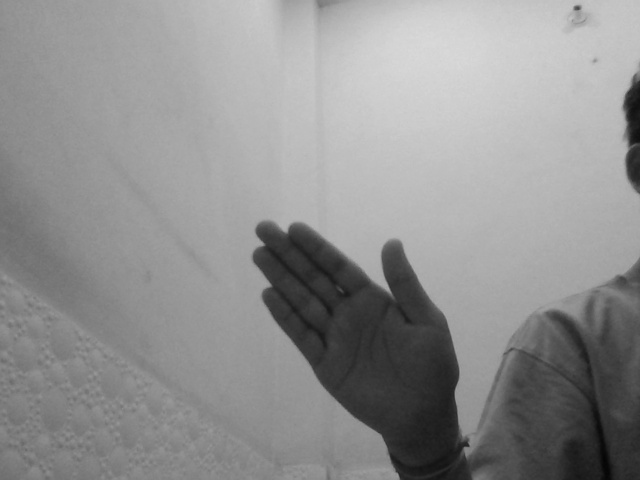Hello: (244, 213, 476, 458)
